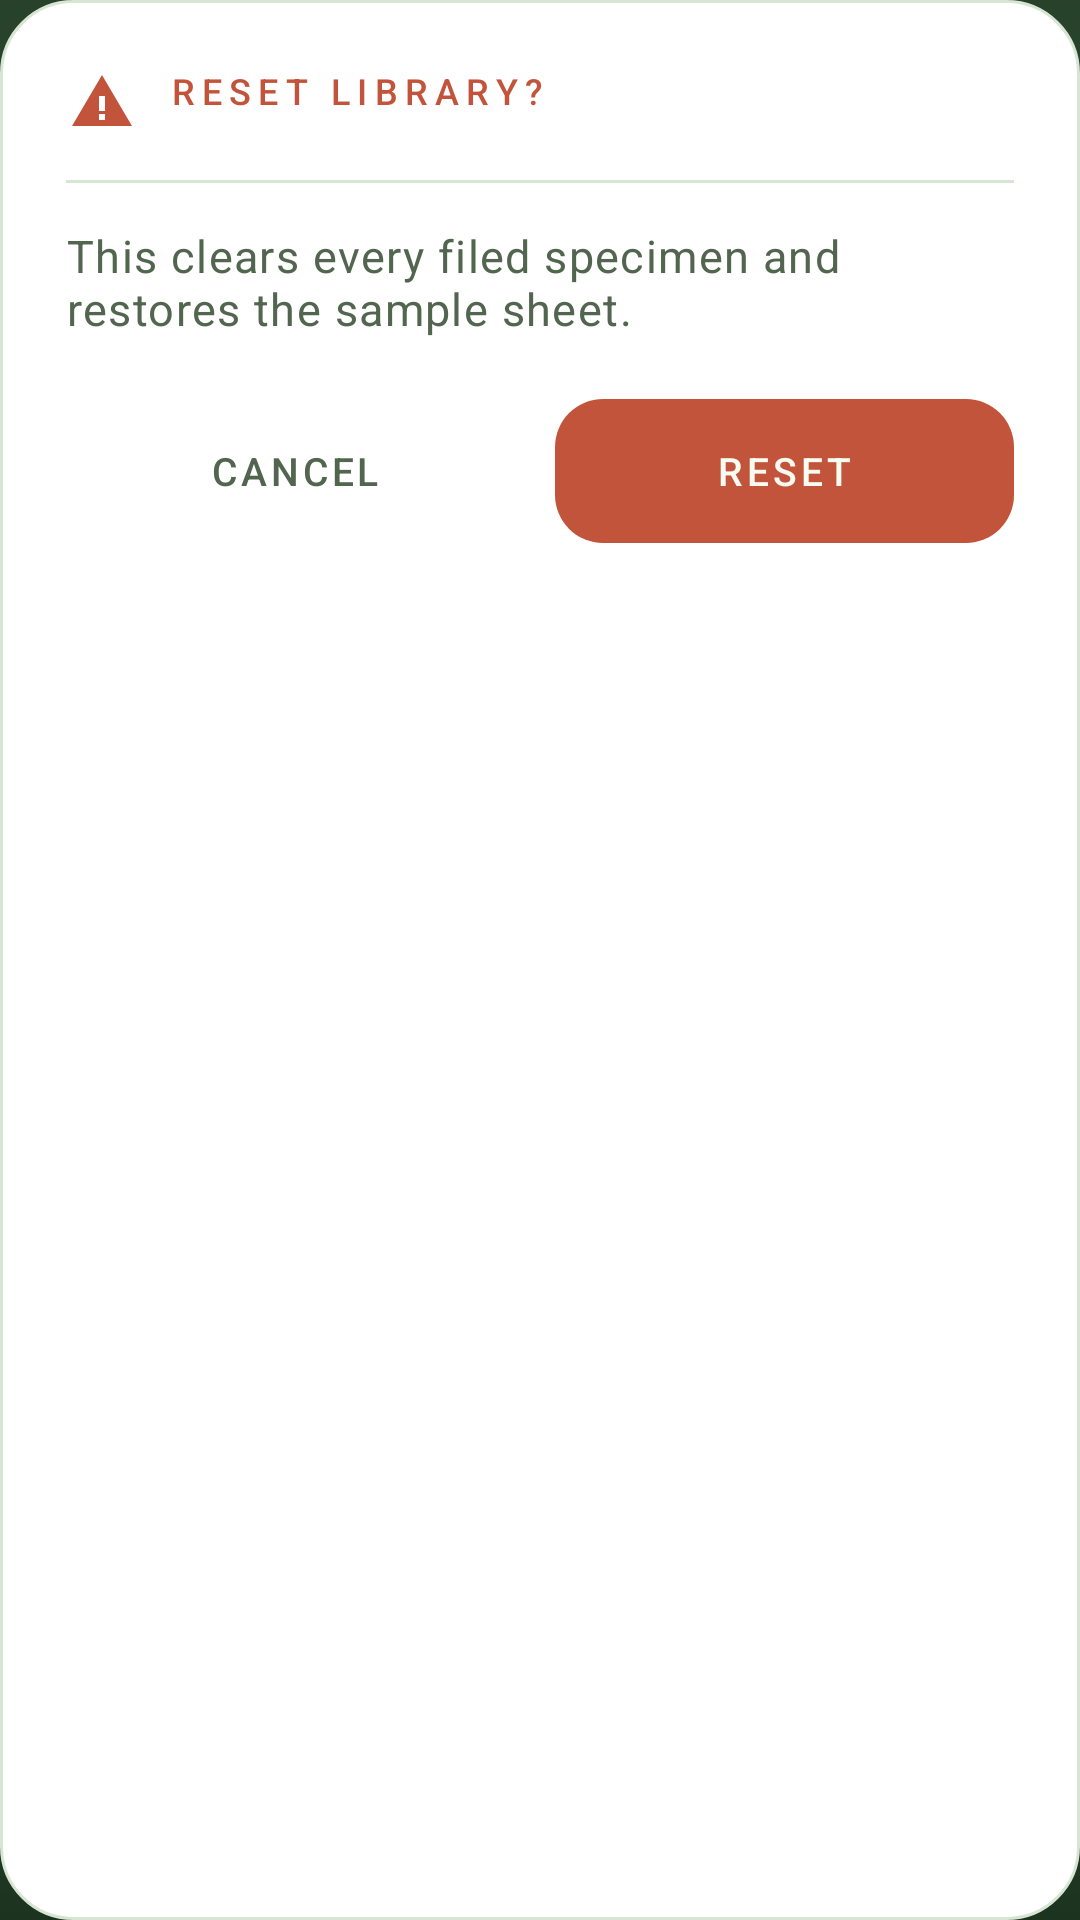

Locate icon controls on the screen. Image size 1080px×1920px, boxes as (x1, y1, x2, y2).
Warning: (72, 75, 132, 126)
